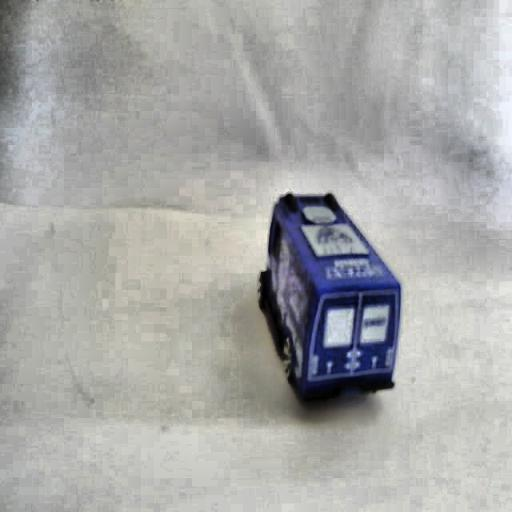police car: (254, 185, 408, 416)
